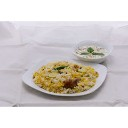briyani: (38, 61, 95, 92)
